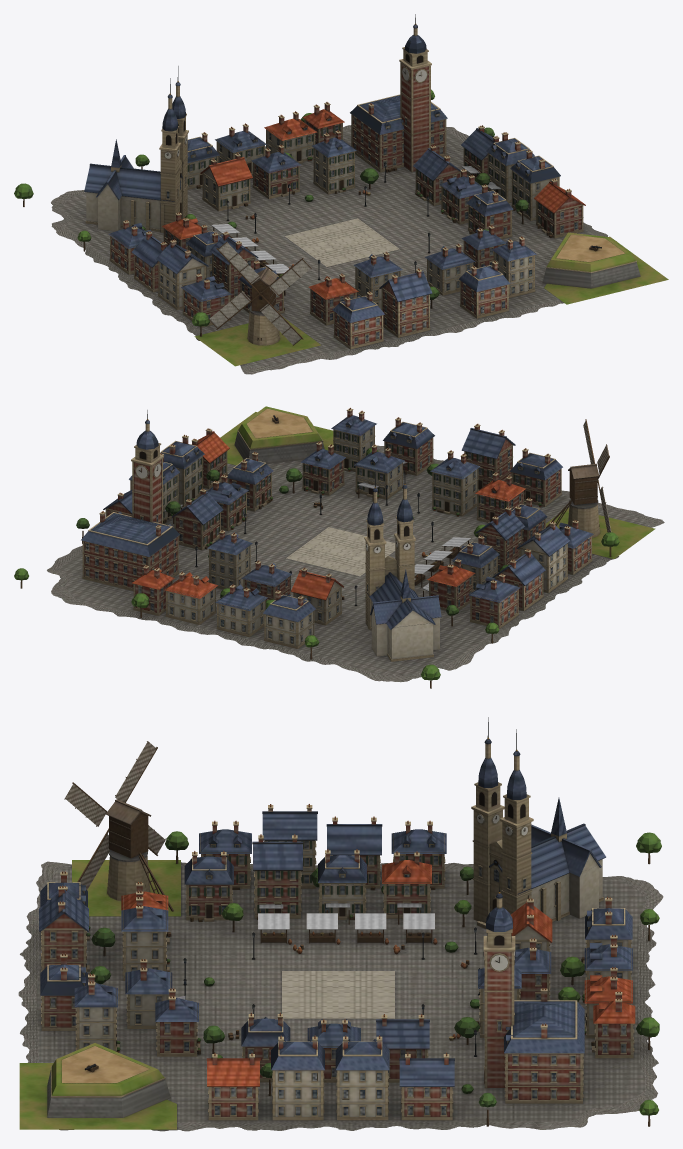
Rendered from gunpowder-town-big-b.glb.
3 renders of one model, top to bottom at view 1: azimuth 30°, elevation 25°; view 2: azimuth 150°, elevation 25°; view 3: azimuth 270°, elevation 25°, orthographic. The views are drawn at different scales.
Visible parts, largest first — view 1: LOD0; view 2: LOD0; view 3: LOD0.
Part boxes in pixels (<box>): LOD0: <box>14,14,668,374</box>; LOD0: <box>14,406,664,688</box>; LOD0: <box>18,717,663,1131</box>.
Size of what is drawn, in the model's own units: 8.05 by 2.8 by 8.12.
3 materials, 3 textured.
